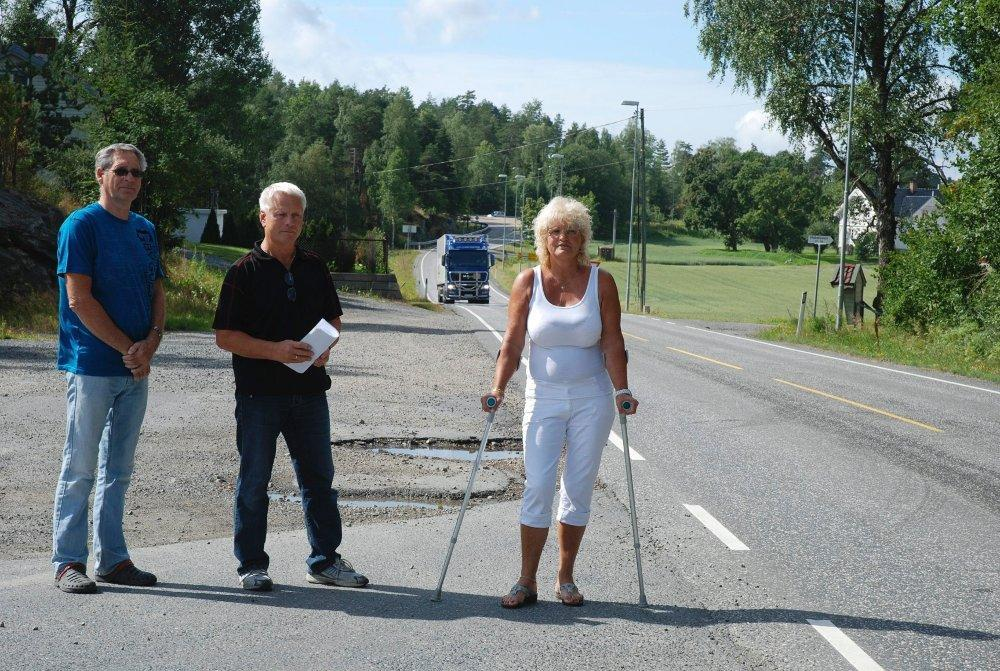crutches: (427, 185, 663, 625)
